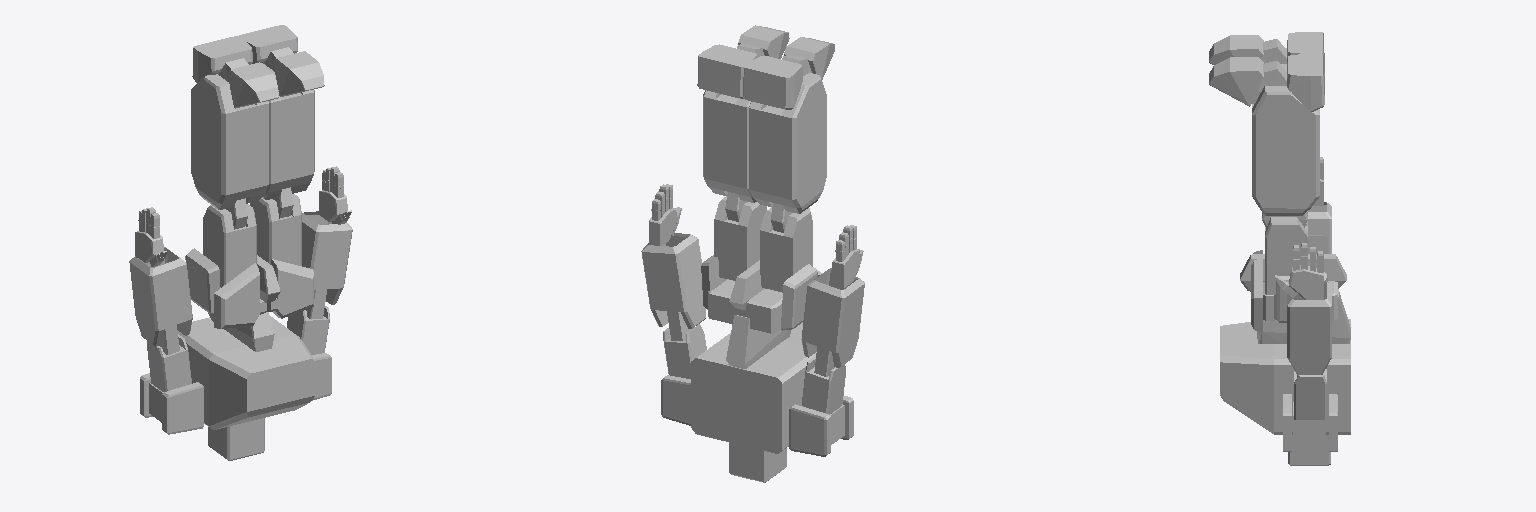
The model's file is robot.obj.
The picture shows the model from 3 angles: view 1: azimuth 30°, elevation 25°; view 2: azimuth 150°, elevation 25°; view 3: azimuth 270°, elevation 25°; orthographic projection.
Parts seen in each view (by area): view 1: MainChest, Cube.001, Cube.002, RightForArm, leftForArm.001, RightTopLeg, RightTopLeg.001, FrontRightPad, FrontLeftPad.001, ShoulderPadFront, Cube, FootFront.001 (+11 smaller); view 2: MainChest, Cube.001, Cube.002, leftForArm.001, RightForArm, RightTopLeg, RightTopLeg.001, Footback, Wastbase, Footback.001, shoulderPadBack, Torso (+11 smaller); view 3: Cube.002, MainChest, leftForArm.001, RightTopLeg.001, FootFront.001, Footback.001, leftBicep.001, Torso, FootFront, WastBottom, Cube.009, leftShoulderConnection.001 (+6 smaller).
Boxes of the visible parts, <box> form: MainChest: <box>178,316,315,429</box>; Cube.001: <box>191,74,268,209</box>; Cube.002: <box>261,63,314,199</box>; RightForArm: <box>129,247,192,346</box>; leftForArm.001: <box>302,211,352,304</box>; RightTopLeg: <box>203,204,256,287</box>; RightTopLeg.001: <box>250,194,301,265</box>; FrontRightPad: <box>214,263,266,328</box>; FrontLeftPad.001: <box>267,259,313,318</box>; ShoulderPadFront: <box>162,382,203,434</box>; Cube: <box>208,418,264,460</box>; FootFront.001: <box>273,51,324,96</box>; MainChest: <box>691,322,816,453</box>; Cube.001: <box>749,73,826,213</box>; Cube.002: <box>703,90,756,202</box>; leftForArm.001: <box>641,233,705,328</box>; RightForArm: <box>801,268,864,367</box>; RightTopLeg: <box>760,207,812,292</box>; RightTopLeg.001: <box>714,196,766,280</box>; Footback: <box>743,56,802,109</box>; Wastbase: <box>708,279,782,333</box>; Footback.001: <box>697,44,756,98</box>; shoulderPadBack: <box>789,404,830,456</box>; Torso: <box>726,315,790,368</box>; Cube.002: <box>1252,70,1319,215</box>; MainChest: <box>1220,319,1350,434</box>; leftForArm.001: <box>1287,281,1331,374</box>; RightTopLeg.001: <box>1265,217,1307,294</box>; FootFront.001: <box>1209,57,1263,106</box>; Footback.001: <box>1287,54,1324,111</box>; leftBicep.001: <box>1294,368,1326,419</box>; Torso: <box>1257,289,1350,343</box>; FootFront: <box>1209,35,1263,64</box>; WastBottom: <box>1240,254,1346,291</box>; Cube.009: <box>1289,265,1323,299</box>; leftShoulderConnection.001: <box>1293,402,1325,445</box>.
Size of the model in its own units: 4.33 by 8.29 by 2.63.